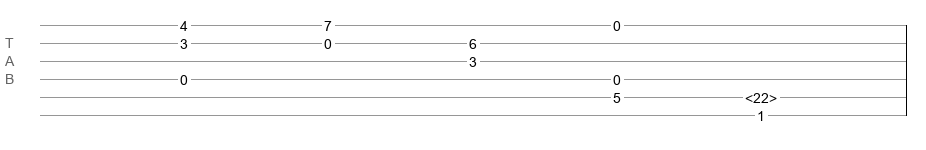0: (180, 72, 188, 82), (324, 36, 332, 46), (613, 72, 621, 82), (613, 18, 621, 28)
1: (757, 108, 765, 118)
3: (180, 36, 188, 46), (469, 54, 477, 64)
4: (180, 18, 188, 28)
5: (613, 90, 621, 100)
6: (469, 36, 477, 46)
7: (324, 18, 332, 28)
harmonic: (745, 90, 777, 100)
